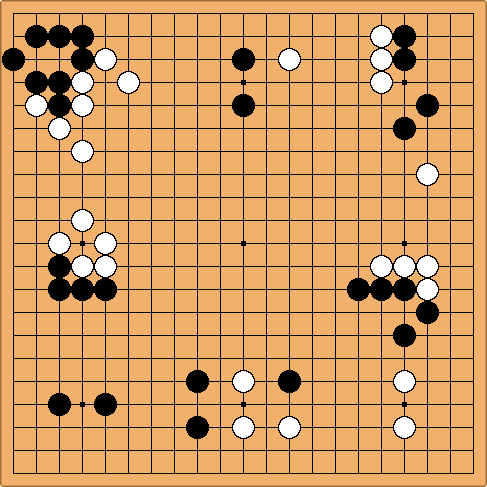black: (52, 98, 64, 110), (100, 400, 108, 408), (239, 54, 247, 62), (54, 400, 62, 408), (239, 100, 247, 108), (192, 423, 200, 431), (192, 377, 200, 385), (285, 377, 293, 385), (78, 286, 84, 292), (101, 286, 107, 292), (424, 101, 430, 107), (55, 286, 61, 292), (55, 263, 61, 269), (401, 332, 407, 338), (401, 286, 407, 292), (424, 309, 430, 315), (9, 55, 15, 61), (355, 286, 361, 292), (378, 286, 384, 292), (55, 32, 61, 38), (55, 78, 61, 84), (401, 124, 407, 130), (32, 32, 38, 38), (401, 32, 407, 38), (401, 55, 407, 61), (32, 78, 38, 84), (78, 32, 84, 38), (78, 55, 84, 61)
white: (377, 54, 385, 62), (378, 32, 384, 38), (78, 216, 84, 222), (378, 78, 384, 84), (78, 263, 84, 269), (101, 240, 107, 246), (240, 424, 246, 430), (101, 263, 107, 269), (424, 170, 430, 176), (286, 55, 292, 61), (240, 378, 246, 384), (55, 240, 61, 246), (401, 378, 407, 384), (401, 263, 407, 269), (424, 286, 430, 292), (424, 263, 430, 269), (401, 424, 407, 430), (378, 263, 384, 269), (55, 124, 61, 130), (101, 55, 107, 61), (124, 78, 130, 84), (32, 101, 38, 107), (286, 424, 292, 430), (78, 147, 84, 153), (78, 78, 84, 84), (78, 101, 84, 107)
